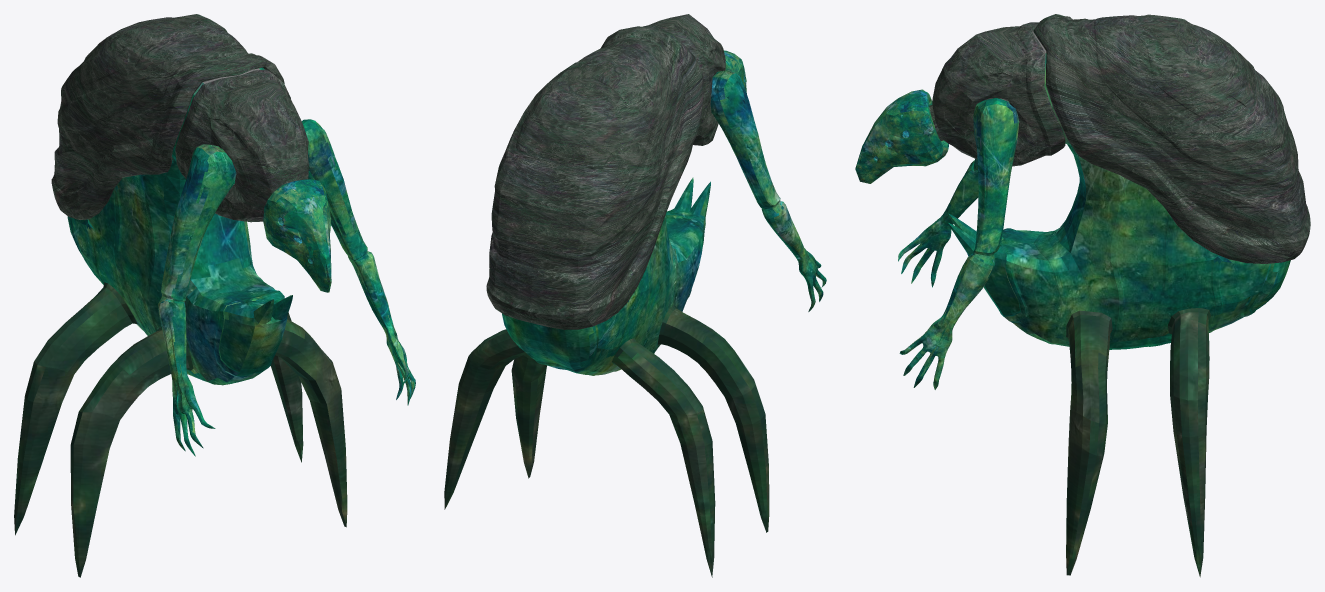
File: cria_reposo.obj
The picture shows the model from 3 angles, left to right: view 1: azimuth 30°, elevation 25°; view 2: azimuth 150°, elevation 25°; view 3: azimuth 270°, elevation 25°; orthographic projection. The views are drawn at different scales.
Size of the model in its own units: 2.33 by 3.9 by 3.26.
Materials: 5 (4 with a texture image).
